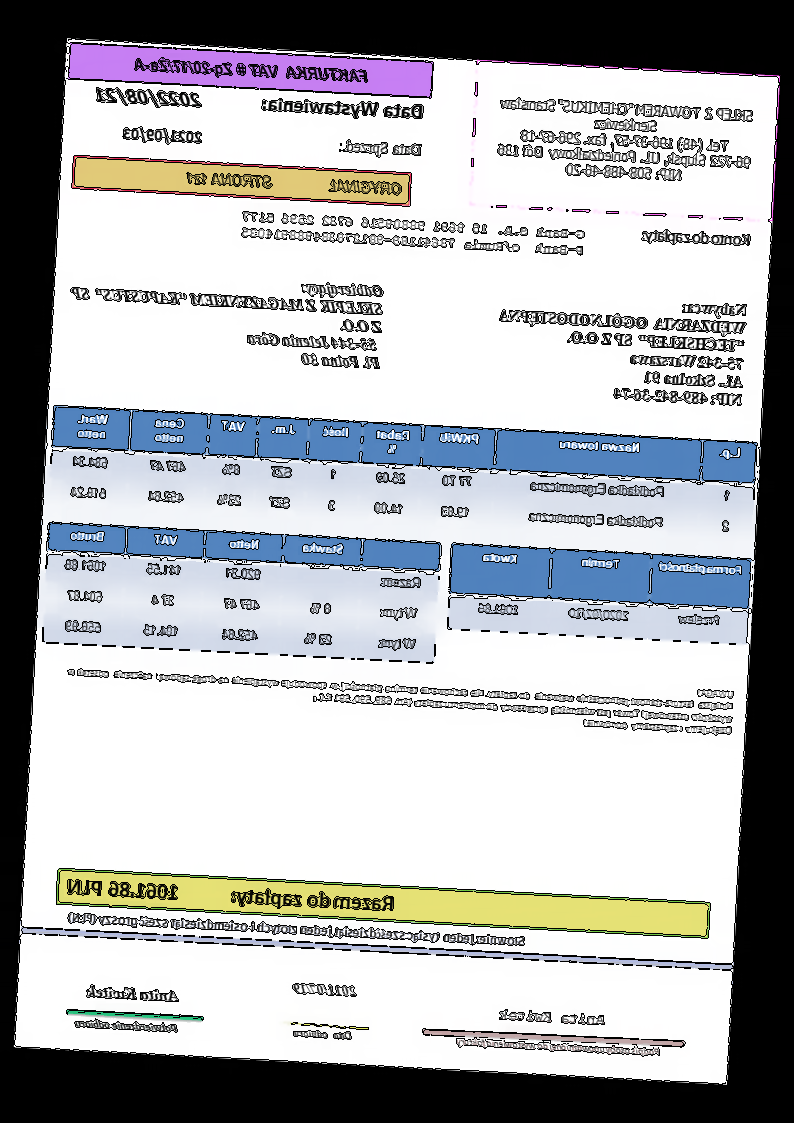Table: (47, 402, 759, 550), (41, 521, 445, 665), (444, 540, 753, 647)
TextBox: (62, 651, 737, 738), (66, 267, 388, 375), (489, 288, 751, 412), (491, 91, 761, 190), (66, 907, 529, 950), (237, 208, 591, 258), (64, 873, 398, 914), (128, 50, 374, 88), (184, 168, 404, 199), (258, 92, 427, 125), (452, 1034, 665, 1059), (93, 82, 204, 110), (639, 225, 756, 251), (500, 1006, 608, 1027), (334, 136, 427, 160), (82, 983, 184, 1004), (71, 1017, 180, 1035), (120, 126, 205, 147), (289, 980, 359, 999), (288, 1026, 354, 1042)
